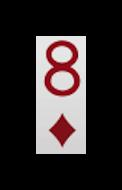8D: (39, 38, 83, 151)
